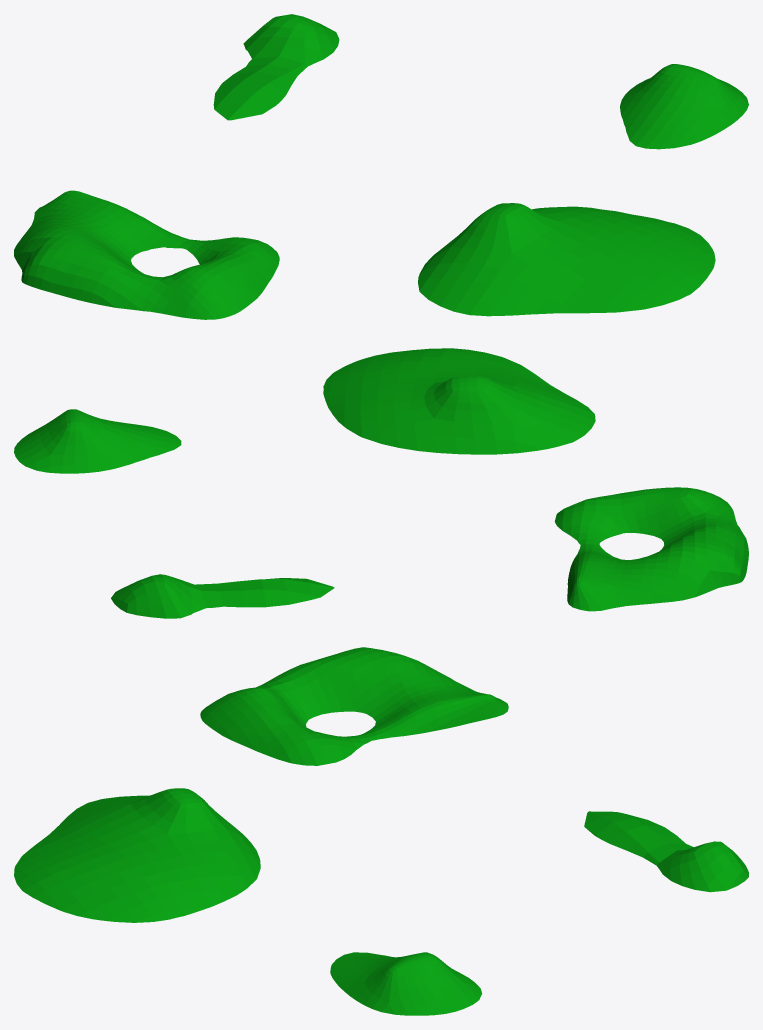
The model's file is EyeLand_cluster.glb.
3 renders of one model, top to bottom at view 1: azimuth 30°, elevation 25°; view 2: azimuth 150°, elevation 25°; view 3: azimuth 270°, elevation 25°, orthographic. The views are drawn at different scales.
Parts seen in each view (by area): view 1: home_island_cluster; view 2: home_island_cluster; view 3: home_island_cluster.
Boxes of the visible parts, x1=… form: home_island_cluster: x1=14, y1=14, x2=748, y2=319; home_island_cluster: x1=14, y1=348, x2=748, y2=618; home_island_cluster: x1=14, y1=647, x2=748, y2=1015.
Size of the model in its own units: 185 by 13.88 by 164.
